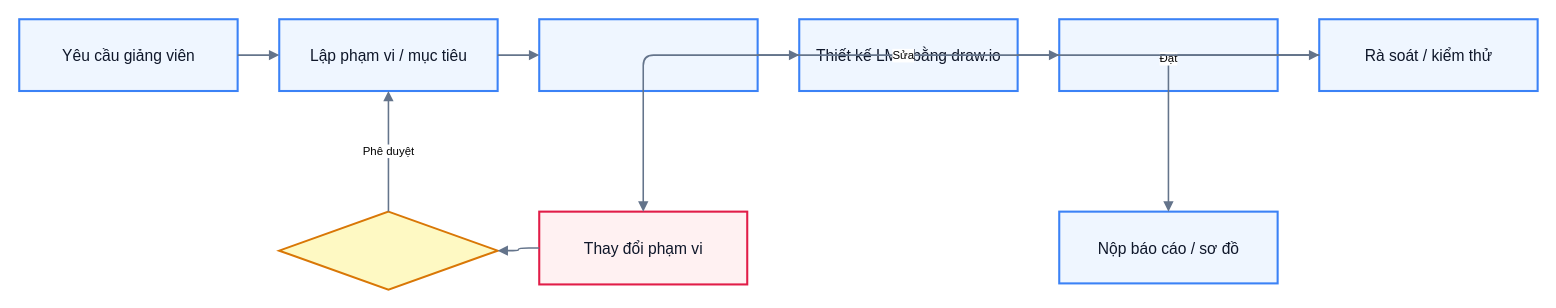
The diagram is 1556 pixels wide and 308 high, and some of its shapes have lost their labels. The shapes that lost their labels are listed below. From the top down, each one's centre as x and y in pixels, then its label:
At [648,55]: "Tạo Trello, WBS và phân công".
At [1168,55]: "Thực hiện / đối chiếu repo".
At [388,250]: "Giảng viên xác nhận?".
